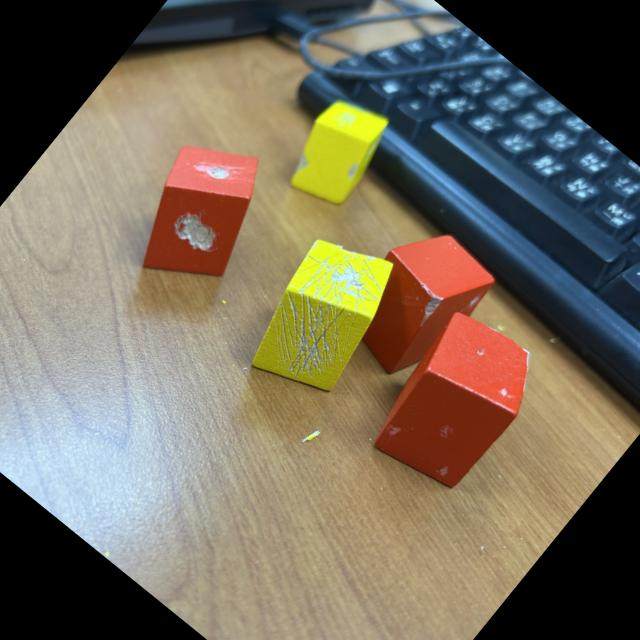broken: (356, 300, 552, 504), (227, 216, 418, 416), (107, 117, 294, 310), (327, 212, 503, 394), (273, 84, 402, 219)
